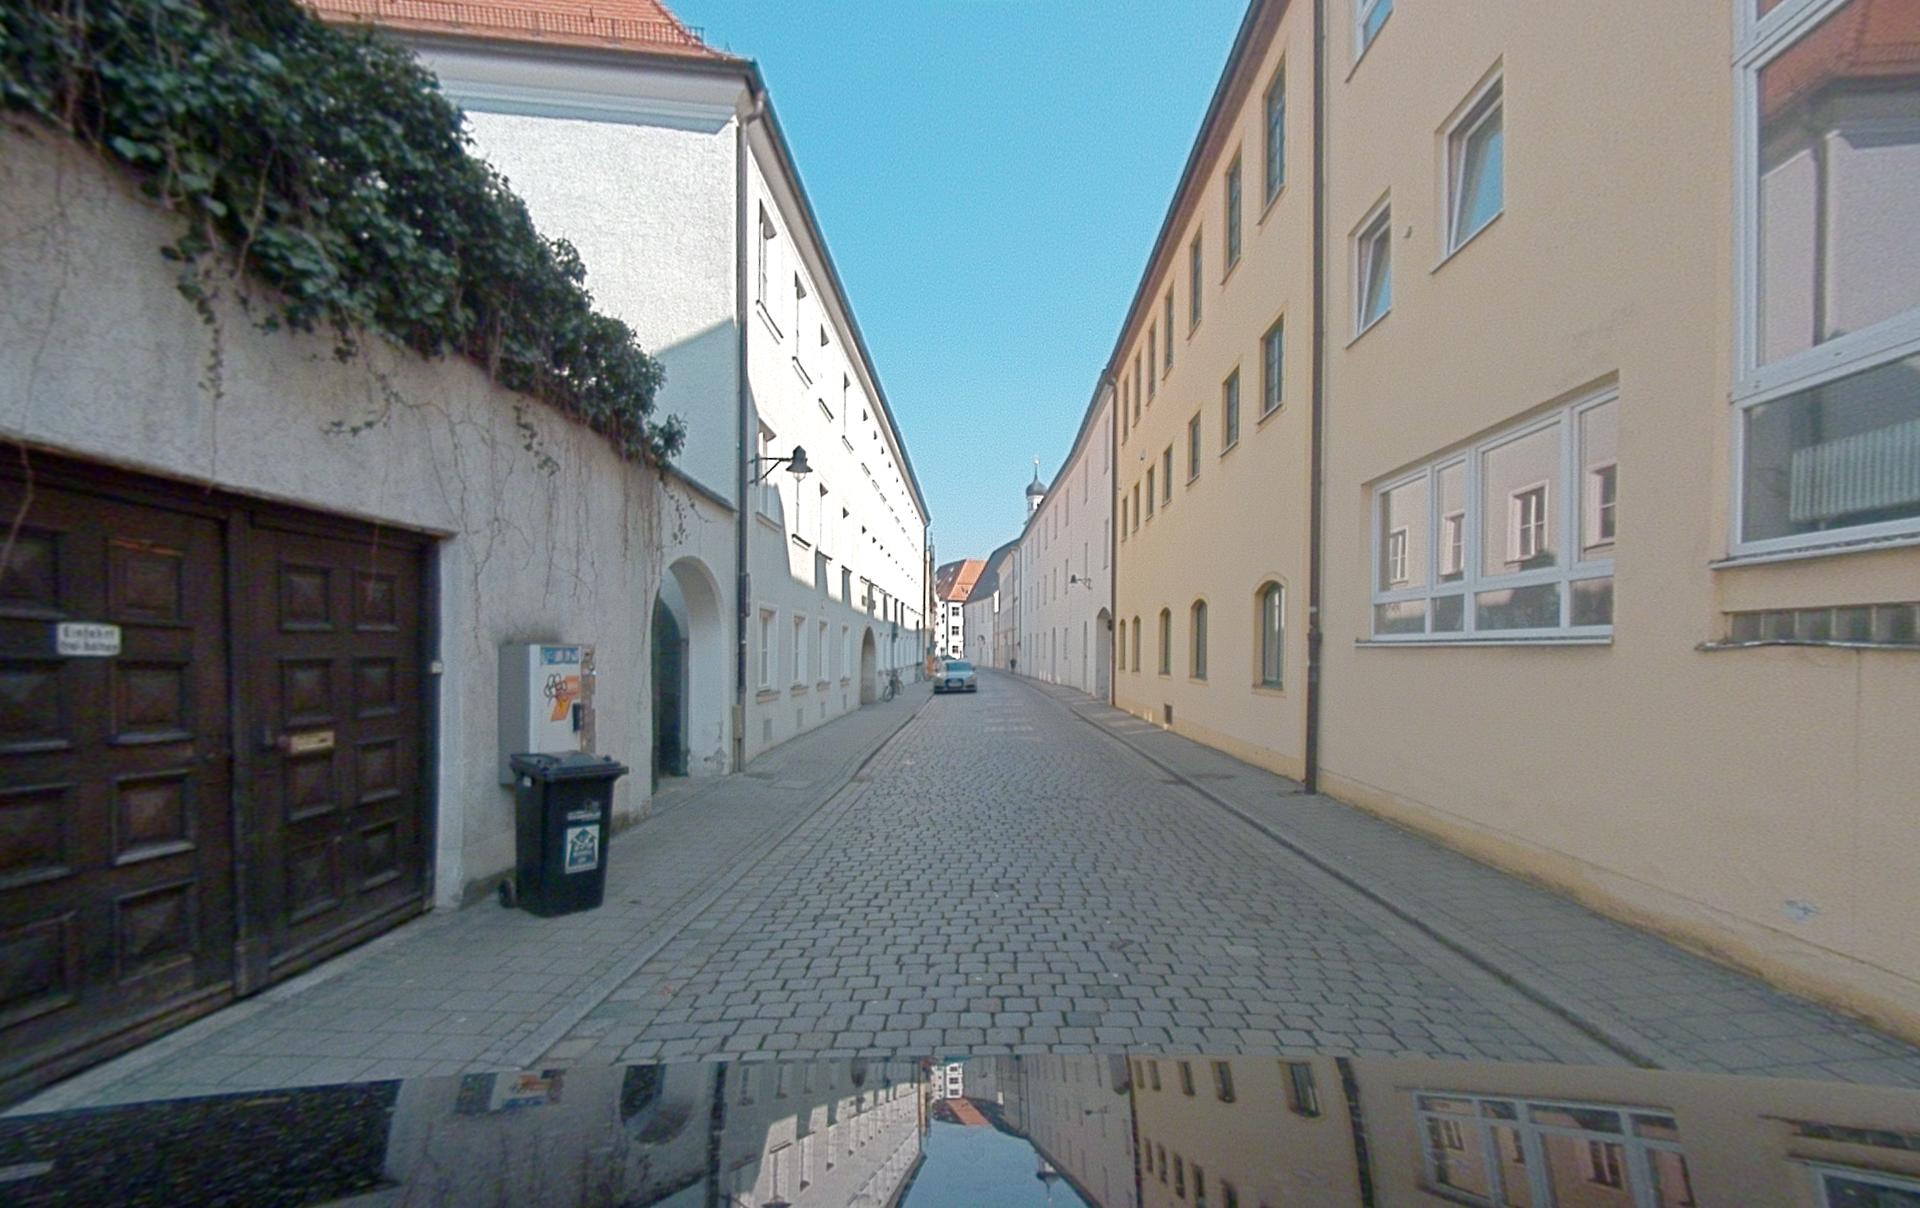car: (932, 658, 977, 693)
traffic sign: (54, 621, 122, 658)
